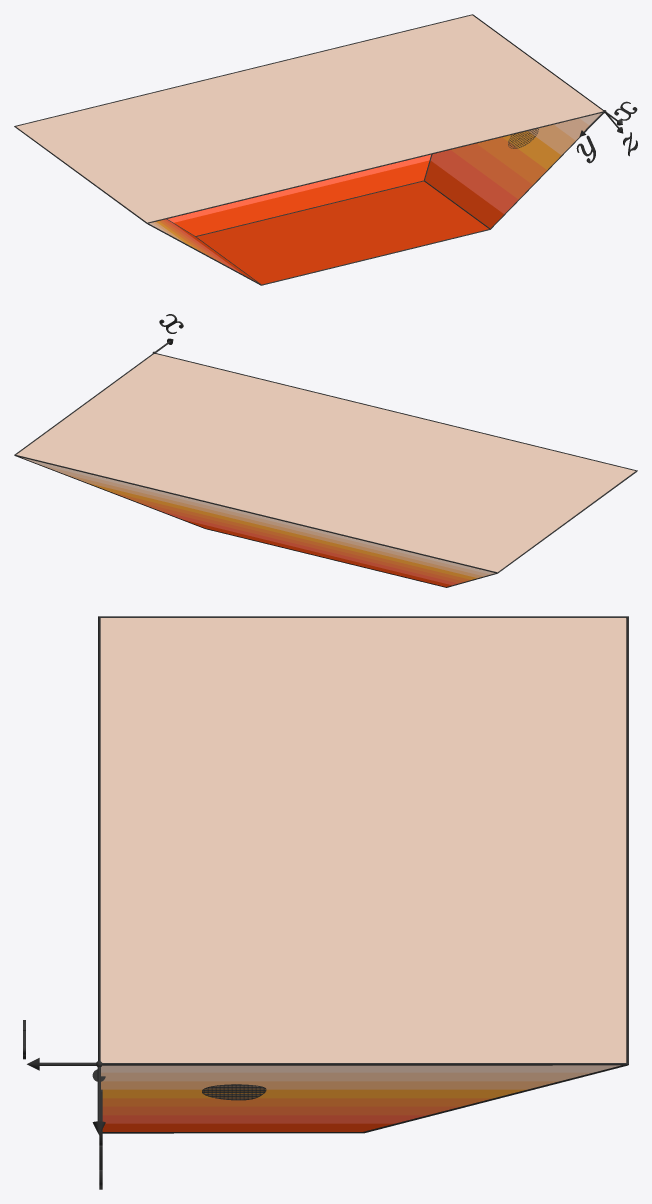
Rendered from hydrostatic_plane_surf.glb.
3 renders of one model, top to bottom at view 1: azimuth 30°, elevation 25°; view 2: azimuth 150°, elevation 25°; view 3: azimuth 270°, elevation 25°, orthographic. The views are drawn at different scales.
Parts seen in each view (by area): view 1: Cube, Cube.001; view 2: Cube, Cube.001; view 3: Cube, Cube.001, Plane.
Part boxes in pixels (x1,y1,x2,y2): Cube: (16, 15, 602, 284); Cube.001: (14, 14, 603, 285); Cube: (16, 354, 635, 586); Cube.001: (14, 353, 637, 587); Cube: (100, 618, 626, 1131); Cube.001: (98, 616, 628, 1133); Plane: (202, 1084, 266, 1100).
Size of the model in its own units: 17.18 by 3.77 by 9.18.
